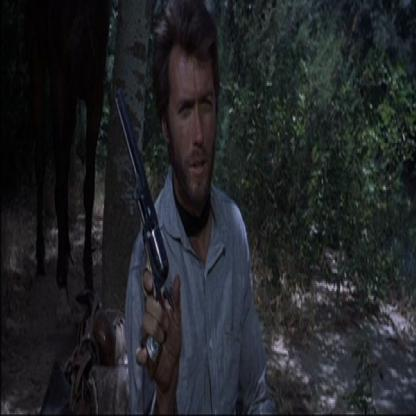Pistol: (85, 78, 188, 384)
